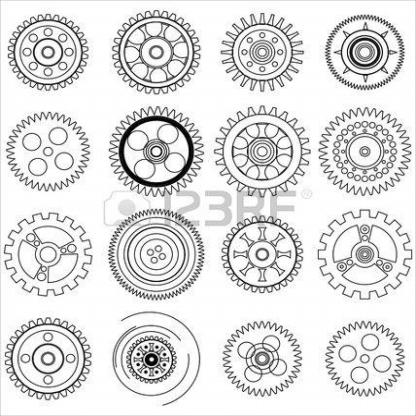FOD: (210, 101, 314, 202), (0, 209, 96, 299)
